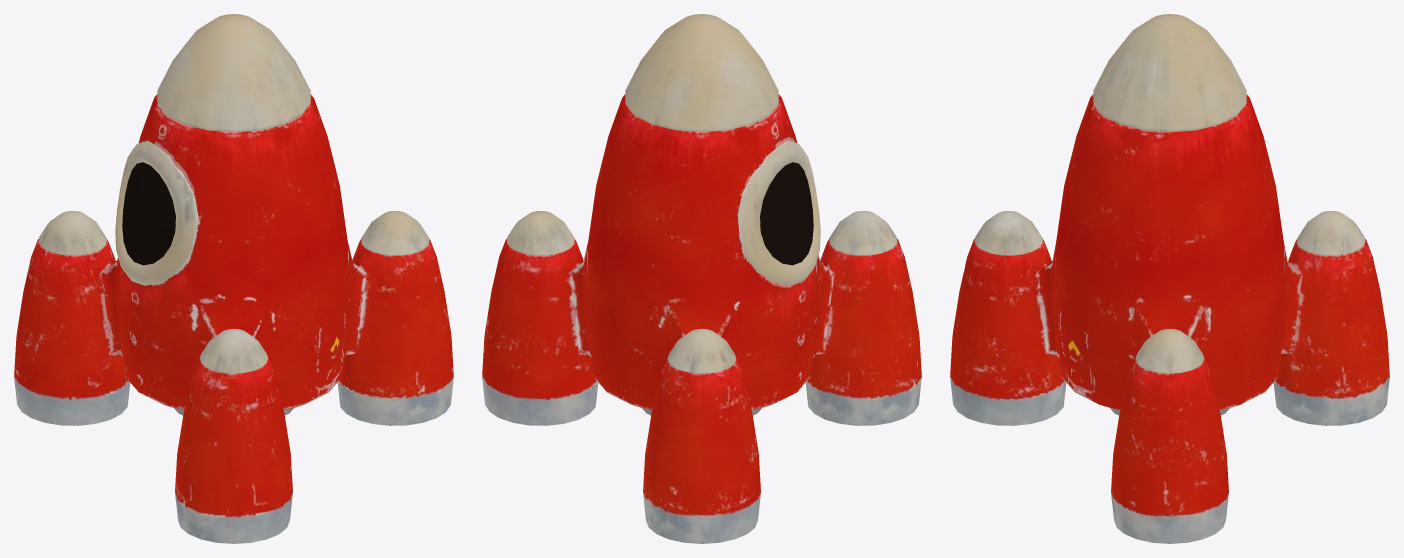
Rendered from R1-retro-toy-rocket.glb.
3 views of the same model, side by side, from view 1: azimuth 30°, elevation 25°; view 2: azimuth 150°, elevation 25°; view 3: azimuth 270°, elevation 25° (orthographic).
Visible parts, largest first — view 1: defaultMaterial; view 2: defaultMaterial; view 3: defaultMaterial.
Part boxes in pixels (bbox=[...]): defaultMaterial: bbox=[14, 14, 453, 543]; defaultMaterial: bbox=[482, 14, 921, 543]; defaultMaterial: bbox=[950, 14, 1389, 543].
Size of the model in its own units: 1.66 by 2 by 1.84.
Materials: 1 (1 with a texture image).
